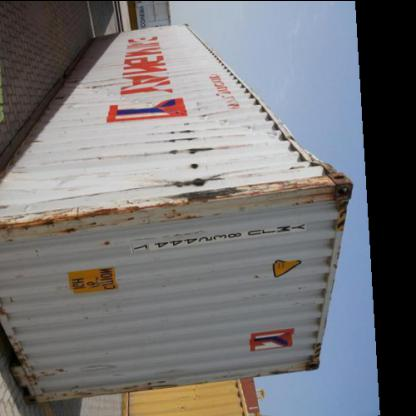Damage: (144, 88, 239, 218), (245, 120, 350, 214), (1, 201, 135, 252), (10, 339, 78, 391), (108, 375, 186, 397), (67, 70, 130, 96), (300, 338, 334, 382)
